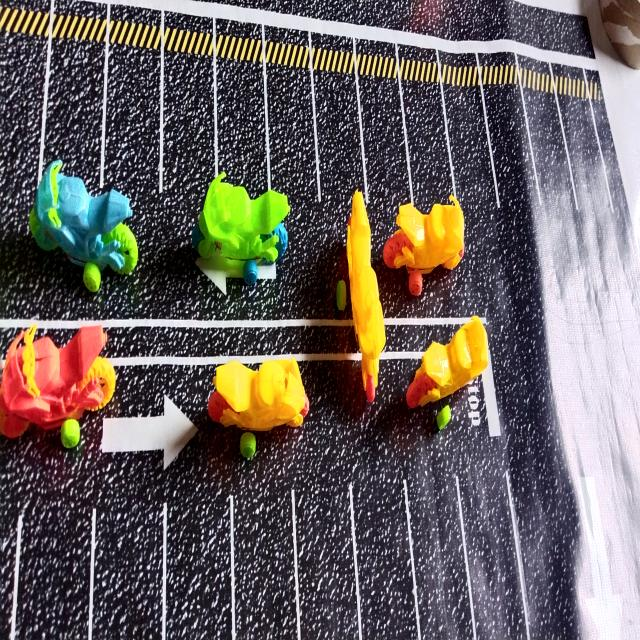bikes: (29, 160, 138, 292), (0, 324, 115, 448), (192, 172, 290, 284), (336, 190, 386, 403), (208, 358, 309, 458), (406, 316, 488, 429), (383, 196, 464, 295)
others: (600, 0, 640, 69)
slots: (410, 450, 474, 640), (353, 460, 417, 640), (16, 496, 92, 640), (461, 471, 525, 638), (0, 32, 47, 242), (92, 501, 163, 640), (163, 50, 215, 237), (43, 39, 104, 194), (167, 495, 232, 640), (359, 78, 410, 259), (104, 49, 160, 212), (298, 487, 357, 638), (236, 493, 296, 640), (267, 64, 318, 220), (483, 84, 543, 216), (443, 84, 497, 224), (315, 71, 364, 223), (218, 57, 267, 196), (402, 80, 452, 212), (559, 97, 613, 214), (525, 89, 576, 209)
